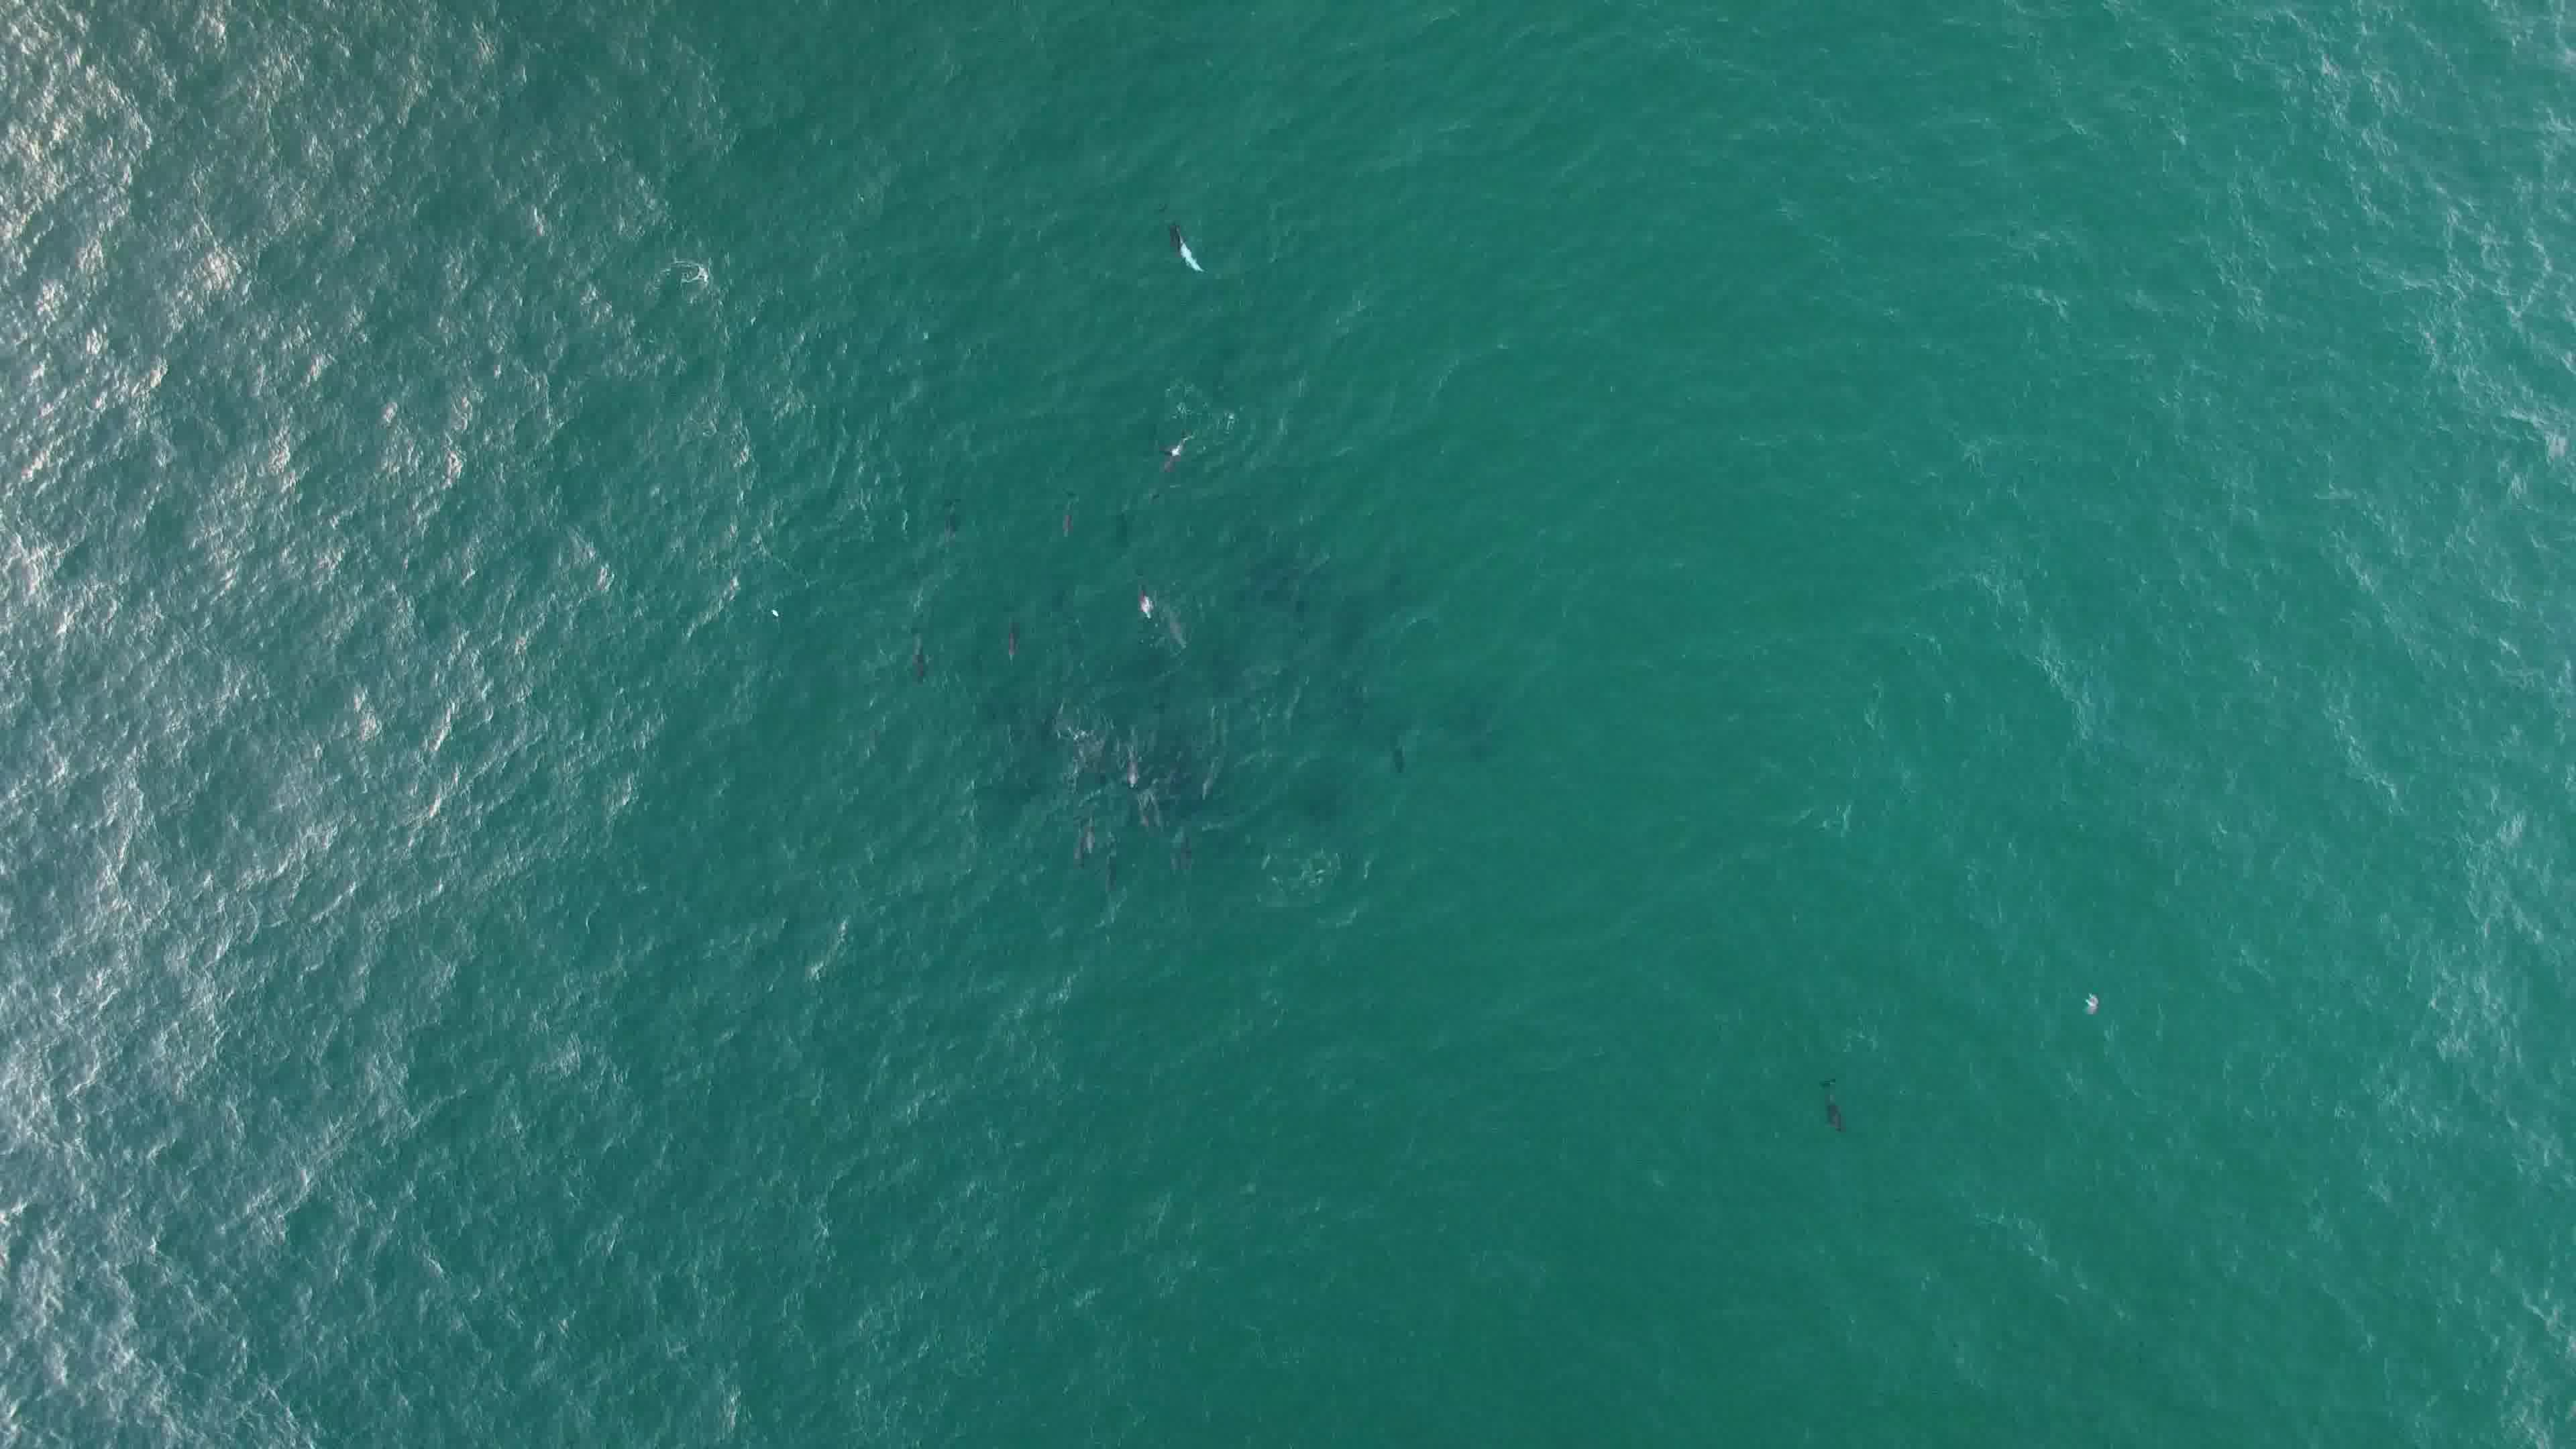dolphin: (1796, 1053, 1859, 1155), (895, 616, 947, 695), (1115, 729, 1154, 796), (1155, 216, 1200, 272), (1150, 425, 1191, 481), (1062, 816, 1100, 874), (1099, 833, 1131, 902), (994, 607, 1028, 671), (1051, 479, 1083, 540)
